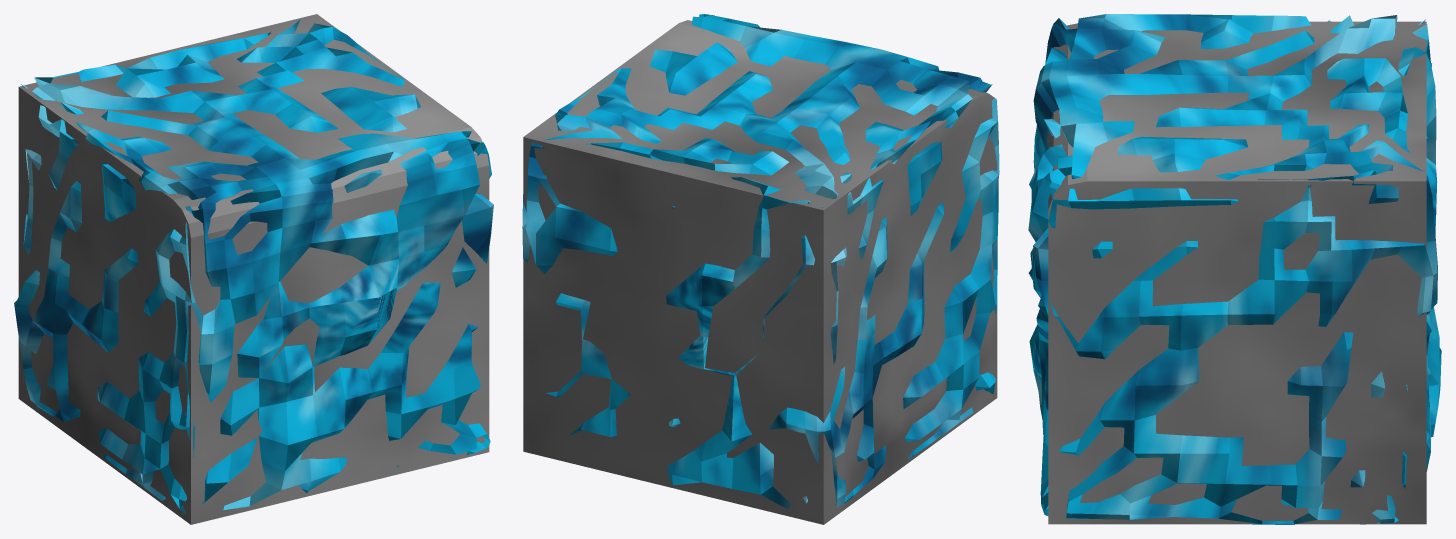
The model's file is CUBE_ARRONDI_PARTIEL4.fbx.
3 renders of one model, left to right at view 1: azimuth 30°, elevation 25°; view 2: azimuth 150°, elevation 25°; view 3: azimuth 270°, elevation 25°, orthographic. The views are drawn at different scales.
Visible parts, largest first — view 1: Cube.002; view 2: Cube.002; view 3: Cube.002.
Part boxes in pixels (x1,y1,x2,y2): Cube.002: (14, 14, 493, 524); Cube.002: (522, 14, 999, 524); Cube.002: (1028, 14, 1441, 524).
Size of the model in its own units: 210 by 211 by 218.
